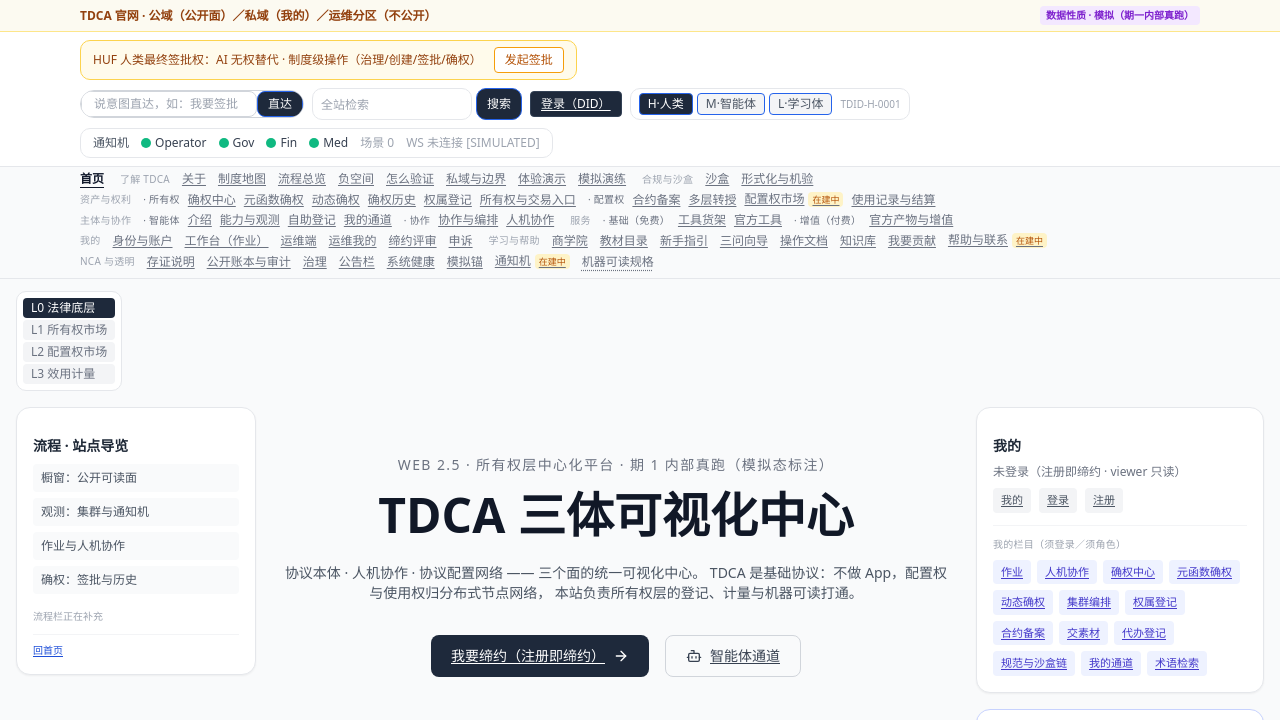
Scenario: F0-A1 应用壳 › DID 上下文：H/M/L 三身份切换生效
The width and height of the screenshot is (1280, 720).
expect the text with test id "did-value" shows "TDID-H-": met, box [840,96,901,110]
What coordinates should you click on to do the following:
click the button "M·智能体"
I would click on:
 (731, 104)
Its box is [697,93,765,115].
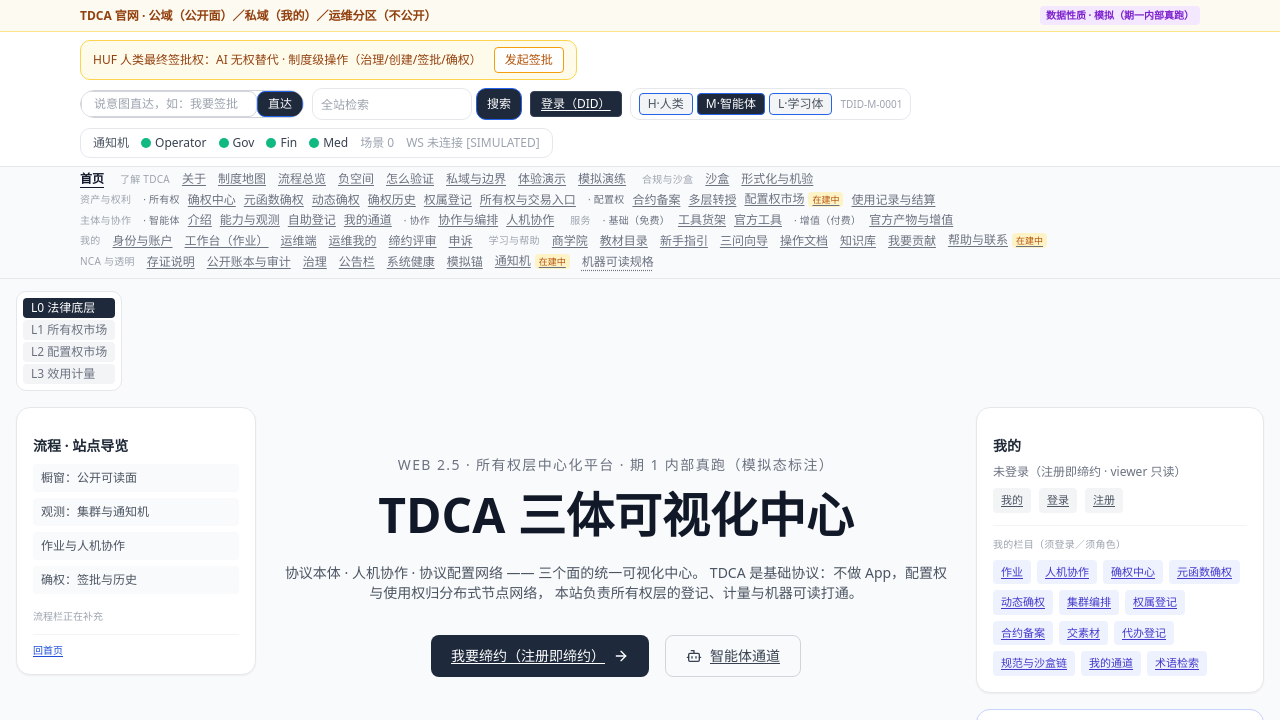
expect the text with test id "did-value" shows "TDID-M-": met, box [840,96,902,110]
What coordinates should you click on to do the following:
click the button "L·学习体"
I would click on:
 (801, 104)
Its box is [769,93,832,115].
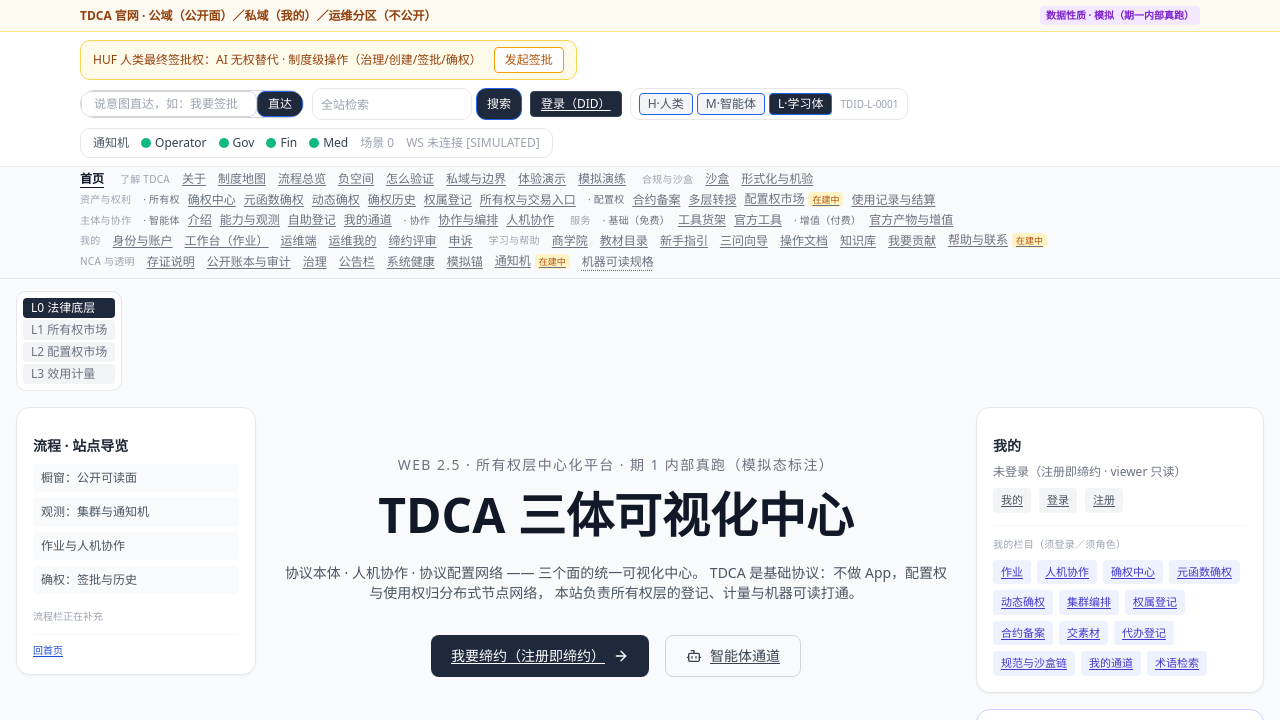
expect the text with test id "did-value" shows "TDID-L-": met, box [840,96,898,110]
